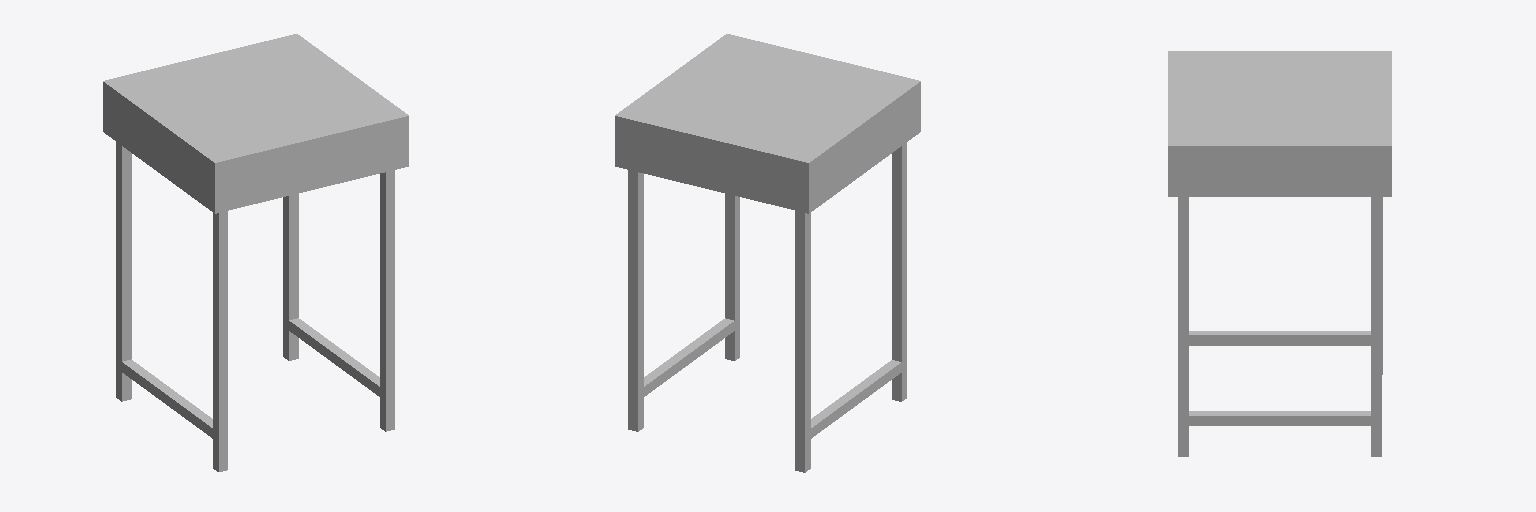
The model's file is bar stool.obj.
3 views of the same model, side by side, from view 1: azimuth 30°, elevation 25°; view 2: azimuth 150°, elevation 25°; view 3: azimuth 270°, elevation 25° (orthographic).
Parts seen in each view (by area): view 1: pCube1, pasted__pCube1 group5, pasted__pCube2 group1, pasted__pCube2 group, pCube2, pasted__pasted__pCube2 pasted__group1 group2, pasted__pasted__pCube2 pasted__group1 group3, pasted__pasted__pasted__pCube2 pasted__pasted__group1 pasted__gr; view 2: pCube1, pasted__pCube1 group5, pasted__pasted__pCube2 pasted__group1 group2, pasted__pCube2 group1, pCube2, pasted__pCube2 group, pasted__pasted__pCube2 pasted__group1 group3, pasted__pasted__pasted__pCube2 pasted__pasted__group1 pasted__gr; view 3: pCube1, pasted__pCube1 group5, pasted__pCube2 group, pasted__pasted__pCube2 pasted__group1 group2, pasted__pasted__pasted__pCube2 pasted__pasted__group1 pasted__gr, pasted__pasted__pCube2 pasted__group1 group3.
Part boxes in pixels (x1,y1,x2,y2): pCube1: (103, 34, 408, 198); pasted__pCube1 group5: (103, 118, 408, 213); pasted__pCube2 group1: (116, 142, 131, 401); pasted__pCube2 group: (380, 170, 394, 431); pCube2: (213, 211, 227, 471); pasted__pasted__pCube2 pasted__group1 group2: (283, 194, 298, 360); pasted__pasted__pCube2 pasted__group1 group3: (121, 359, 215, 440); pasted__pasted__pasted__pCube2 pasted__pasted__group1 pasted__gr: (289, 318, 382, 398); pCube1: (615, 34, 920, 197); pasted__pCube1 group5: (615, 118, 920, 213); pasted__pasted__pCube2 pasted__group1 group2: (628, 170, 643, 431); pasted__pCube2 group1: (795, 211, 810, 472); pCube2: (892, 143, 906, 401); pasted__pCube2 group: (725, 194, 739, 360); pasted__pasted__pCube2 pasted__group1 group3: (808, 360, 904, 440); pasted__pasted__pasted__pCube2 pasted__pasted__group1 pasted__gr: (644, 318, 737, 396); pCube1: (1168, 51, 1391, 181); pasted__pCube1 group5: (1168, 181, 1391, 196); pasted__pCube2 group: (1178, 197, 1188, 456); pasted__pasted__pCube2 pasted__group1 group2: (1371, 197, 1381, 456); pasted__pasted__pasted__pCube2 pasted__pasted__group1 pasted__gr: (1189, 411, 1376, 425); pasted__pasted__pCube2 pasted__group1 group3: (1189, 331, 1370, 345).
Bounding box in the file's own units: 2.54 × 3.94 × 2.54.